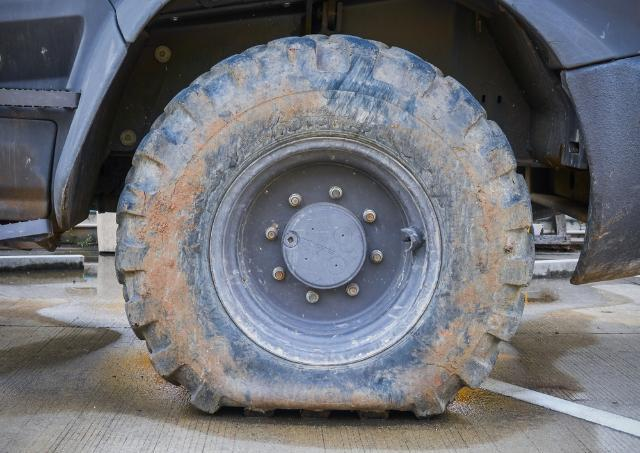tire flat: (115, 34, 539, 424)
